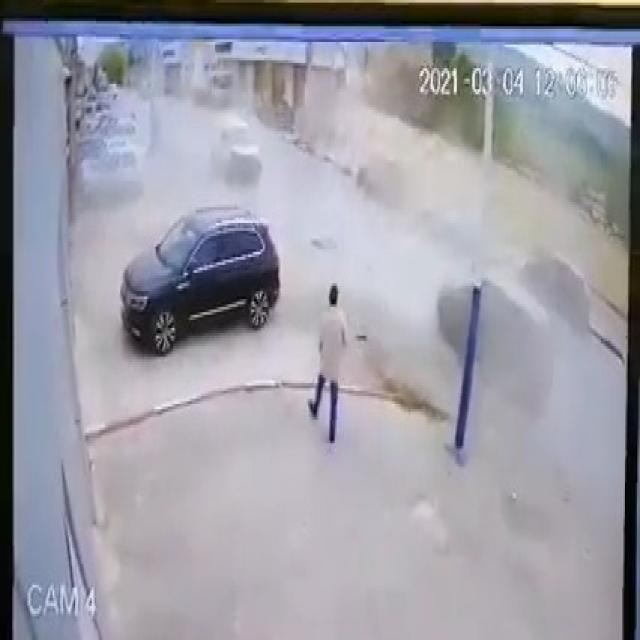accident: (206, 110, 274, 186)
